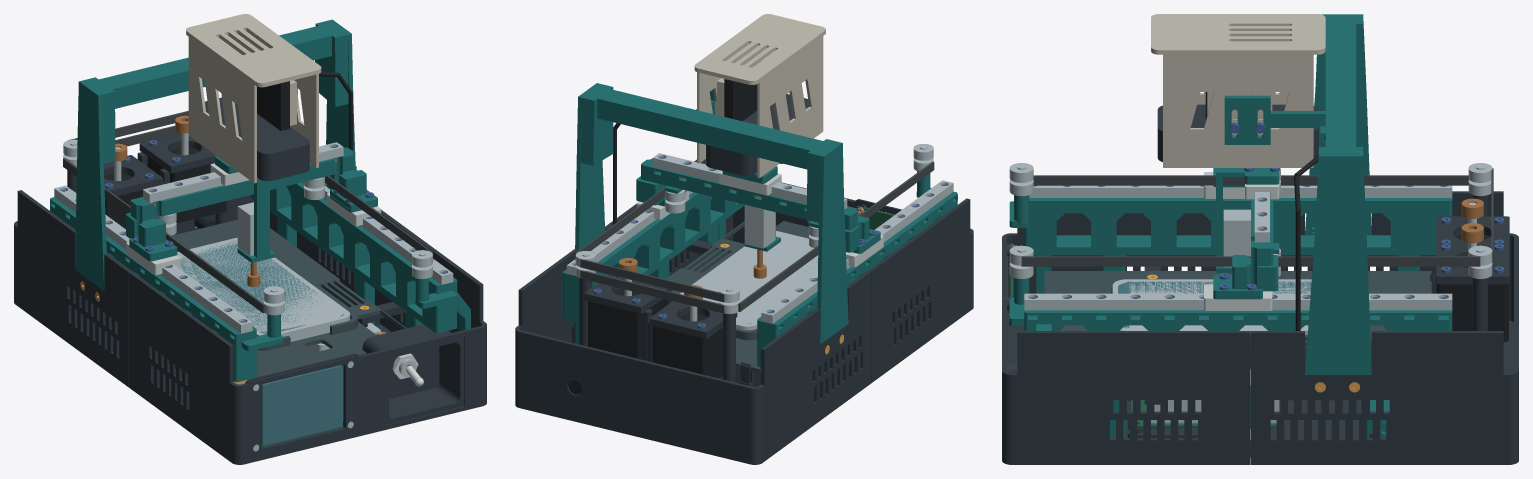
File: consola.glb
3 renders of one model, left to right at view 1: azimuth 30°, elevation 25°; view 2: azimuth 150°, elevation 25°; view 3: azimuth 270°, elevation 25°, orthographic. The views are drawn at different scales.
Visible parts, largest first — view 1: Carcasa_delante, Carcasa_detras, Capota_y_soporte_C922, Portico_camara_una_pieza, Asiento_Y_D, Tabique_sobre_electronica, iPhone14, Puente_transversal_nuevo, Vidrio_TS24_62x45, Area_activa_iPhone, Asiento_Y_I, C922_cara (+16 smaller); view 2: Carcasa_detras, Portico_camara_una_pieza, Carcasa_delante, Capota_y_soporte_C922, Asiento_Y_D, iPhone14, Puente_transversal_nuevo, Asiento_Y_I, NEMA17_A, NEMA17_B, Tabique_sobre_electronica, MGN9_Y_I (+11 smaller); view 3: Carcasa_detras, Carcasa_delante, Portico_camara_una_pieza, Capota_y_soporte_C922, Asiento_Y_I, Asiento_Y_D, MGN9_Y_D, Tabique_sobre_electronica, Ramal_lateral_B, MGN9_Y_I, Ramal_lateral_A, Puente_transversal_nuevo (+9 smaller).
Boxes of the visible parts, x1=… form: Carcasa_delante: x1=128, y1=210, x2=486, y2=464; Carcasa_detras: x1=14, y1=133, x2=377, y2=386; Capota_y_soporte_C922: x1=186, y1=14, x2=321, y2=183; Portico_camara_una_pieza: x1=75, y1=19, x2=355, y2=290; Asiento_Y_D: x1=250, y1=182, x2=470, y2=332; Tabique_sobre_electronica: x1=171, y1=219, x2=406, y2=376; iPhone14: x1=177, y1=237, x2=350, y2=341; Puente_transversal_nuevo: x1=126, y1=147, x2=377, y2=261; Vidrio_TS24_62x45: x1=261, y1=365, x2=342, y2=445; Area_activa_iPhone: x1=180, y1=240, x2=343, y2=333; Asiento_Y_I: x1=50, y1=197, x2=283, y2=381; C922_cara: x1=205, y1=97, x2=309, y2=180; Carcasa_detras: x1=515, y1=211, x2=871, y2=464; Portico_camara_una_pieza: x1=575, y1=83, x2=848, y2=343; Carcasa_delante: x1=626, y1=159, x2=973, y2=382; Capota_y_soporte_C922: x1=694, y1=14, x2=825, y2=177; Asiento_Y_D: x1=562, y1=163, x2=782, y2=344; iPhone14: x1=680, y1=231, x2=818, y2=330; Puente_transversal_nuevo: x1=636, y1=158, x2=880, y2=253; Asiento_Y_I: x1=757, y1=171, x2=957, y2=366; NEMA17_A: x1=653, y1=314, x2=722, y2=378; NEMA17_B: x1=588, y1=289, x2=664, y2=359; Tabique_sobre_electronica: x1=665, y1=221, x2=809, y2=372; MGN9_Y_I: x1=761, y1=180, x2=953, y2=323; Carcasa_detras: x1=1250, y1=191, x2=1518, y2=464; Carcasa_delante: x1=1002, y1=213, x2=1250, y2=464; Portico_camara_una_pieza: x1=1224, y1=14, x2=1371, y2=374; Capota_y_soporte_C922: x1=1151, y1=14, x2=1325, y2=167; Asiento_Y_I: x1=1009, y1=195, x2=1452, y2=293; Asiento_Y_D: x1=1009, y1=278, x2=1452, y2=437; MGN9_Y_D: x1=1024, y1=293, x2=1452, y2=310; Tabique_sobre_electronica: x1=1044, y1=271, x2=1431, y2=368; Ramal_lateral_B: x1=1021, y1=256, x2=1480, y2=266; MGN9_Y_I: x1=1029, y1=185, x2=1452, y2=197; Ramal_lateral_A: x1=1033, y1=175, x2=1468, y2=185; Puente_transversal_nuevo: x1=1213, y1=168, x2=1279, y2=299.
Size of the model in its own units: 0.196 by 0.231 by 0.302.
